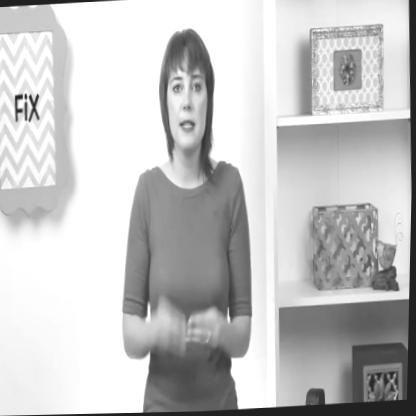Fix: (149, 254, 238, 410)
